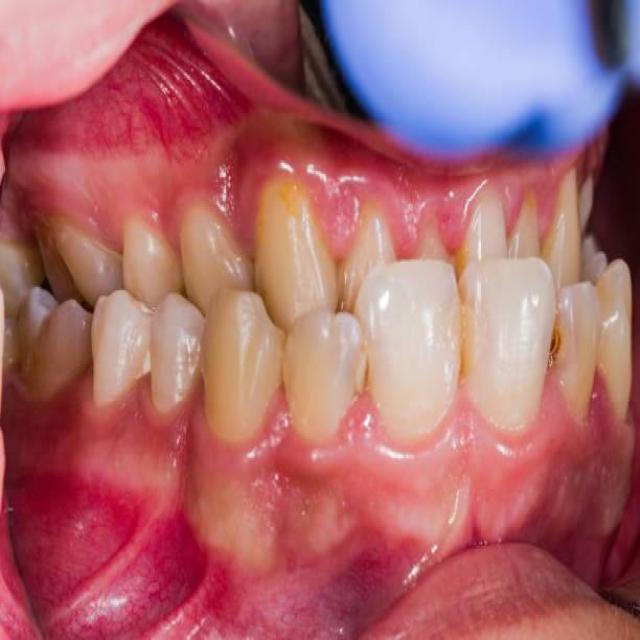caries: (534, 307, 572, 373)
